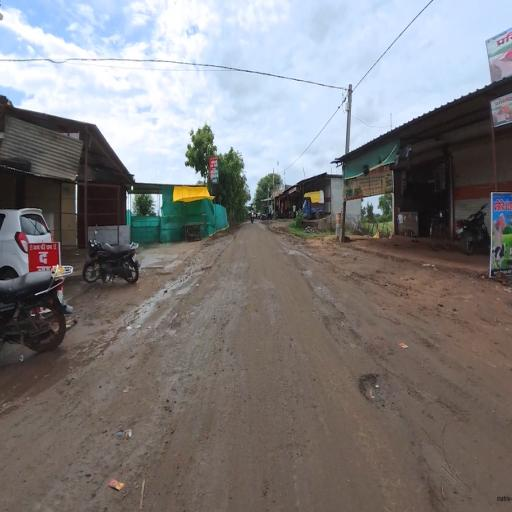edge_damage: (339, 311, 405, 446)
